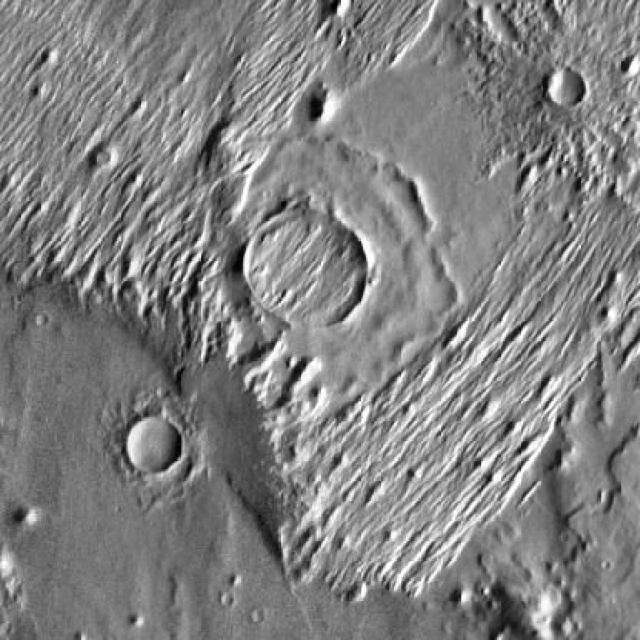crater: (245, 202, 368, 326), (126, 419, 180, 473), (545, 65, 587, 107)
